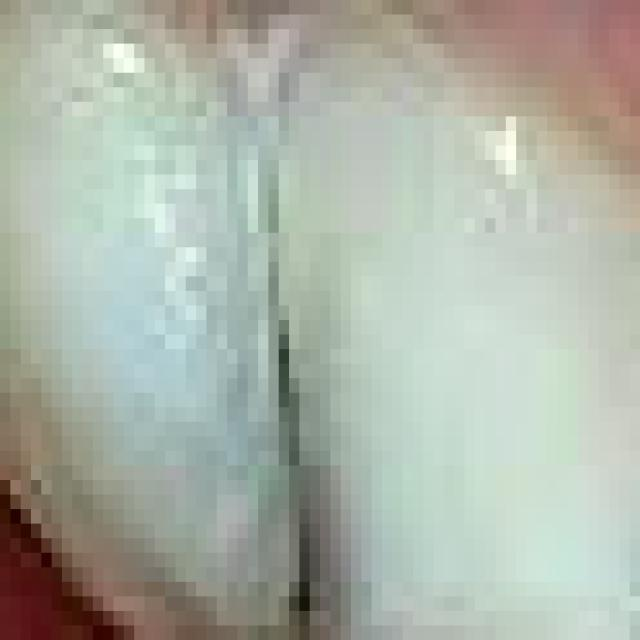Carrier: (239, 104, 335, 636)
